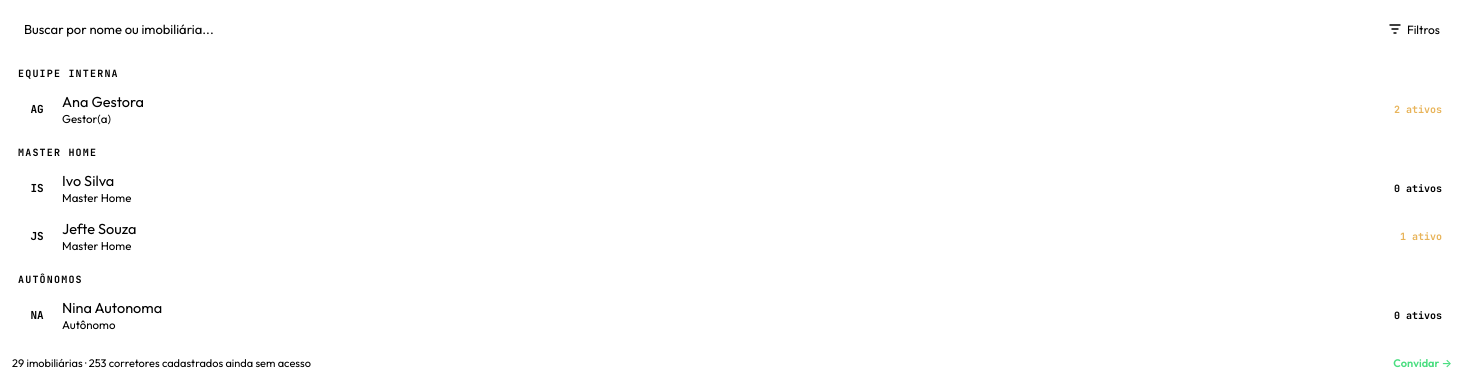
NexaEntityPicker — regras duras (testes bloqueantes) › T6 — 'master' sem filtro mostra a sugestão; clicá-la aplica o token e lista só Master Home
This screenshot has width=1464, height=385.
In the field with placeholder "Buscar por nome ou imobiliária...": (690, 29) [12,12,1369,46], type "master"
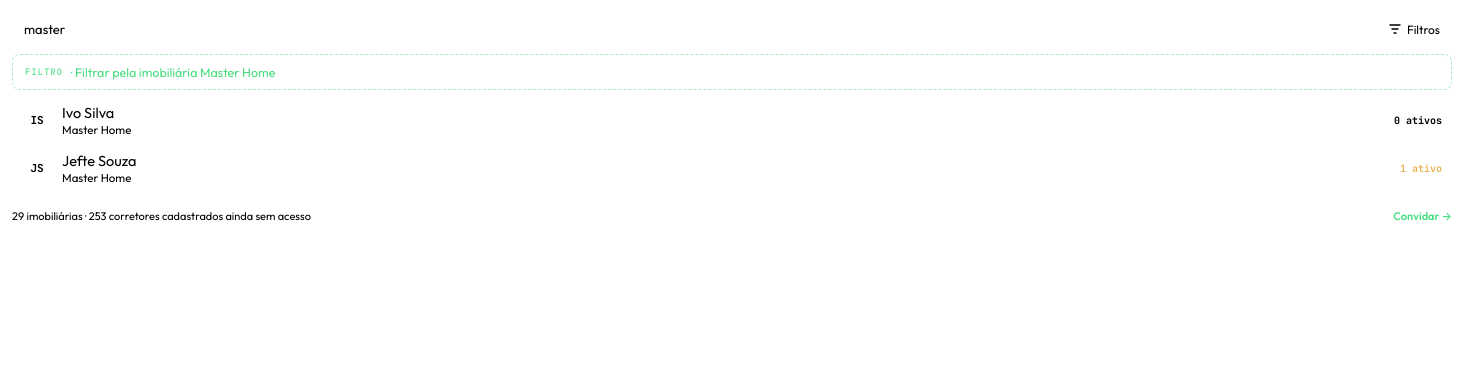
Check: the text "· Filtrar pela imobiliária Master Home" is shown
Click the text "· Filtrar pela imobiliária Master Home": (173, 72) [71,64,275,80]
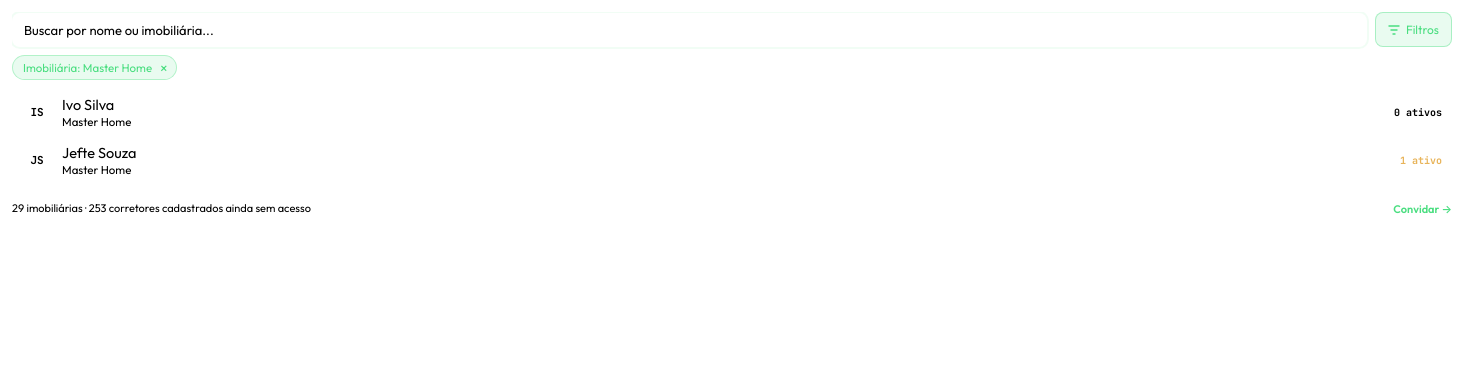
Check: the text "Ivo Silva" is shown, box [62,95,114,114]
Check: the text "Imobiliária: Master Home ×" is shown, box [12,55,177,80]
